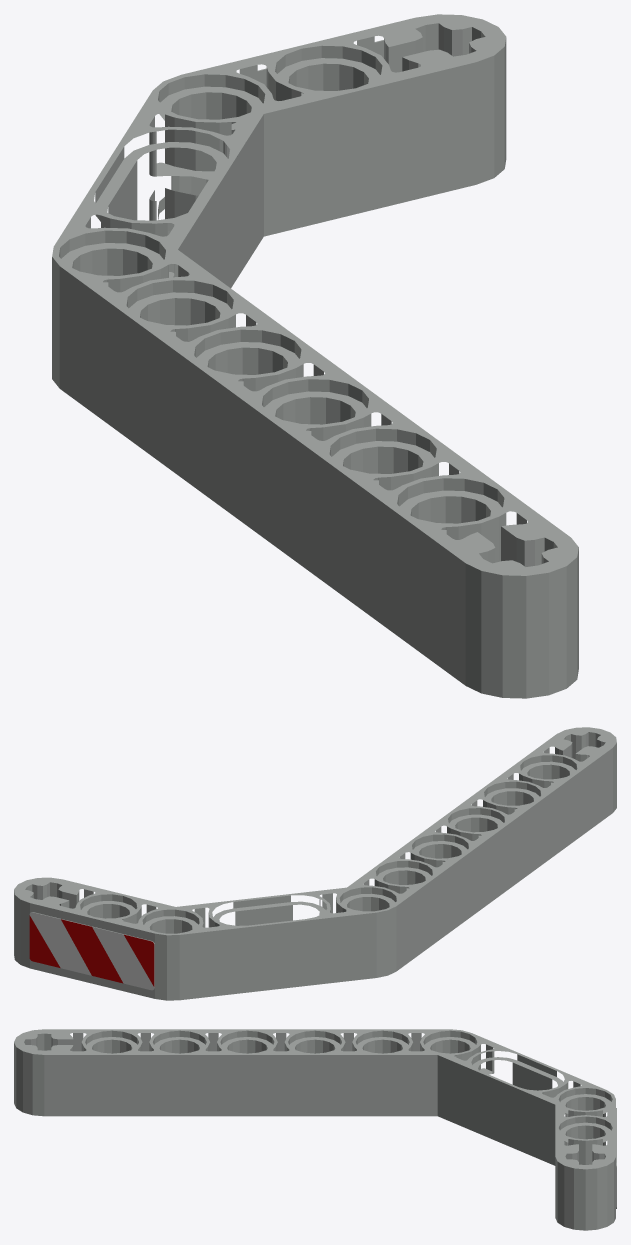
3 renders of one model, top to bottom at view 1: azimuth 30°, elevation 25°; view 2: azimuth 150°, elevation 25°; view 3: azimuth 270°, elevation 25°, orthographic. The views are drawn at different scales.
Visible parts, largest first — view 1: world; view 2: world; view 3: world.
Part boxes in pixels (x1,y1,x2,y2): world: (52, 14, 578, 698); world: (14, 727, 616, 1000); world: (14, 1029, 616, 1230).
Size of the model in its own units: 0.0392 by 0.008 by 0.0713.
